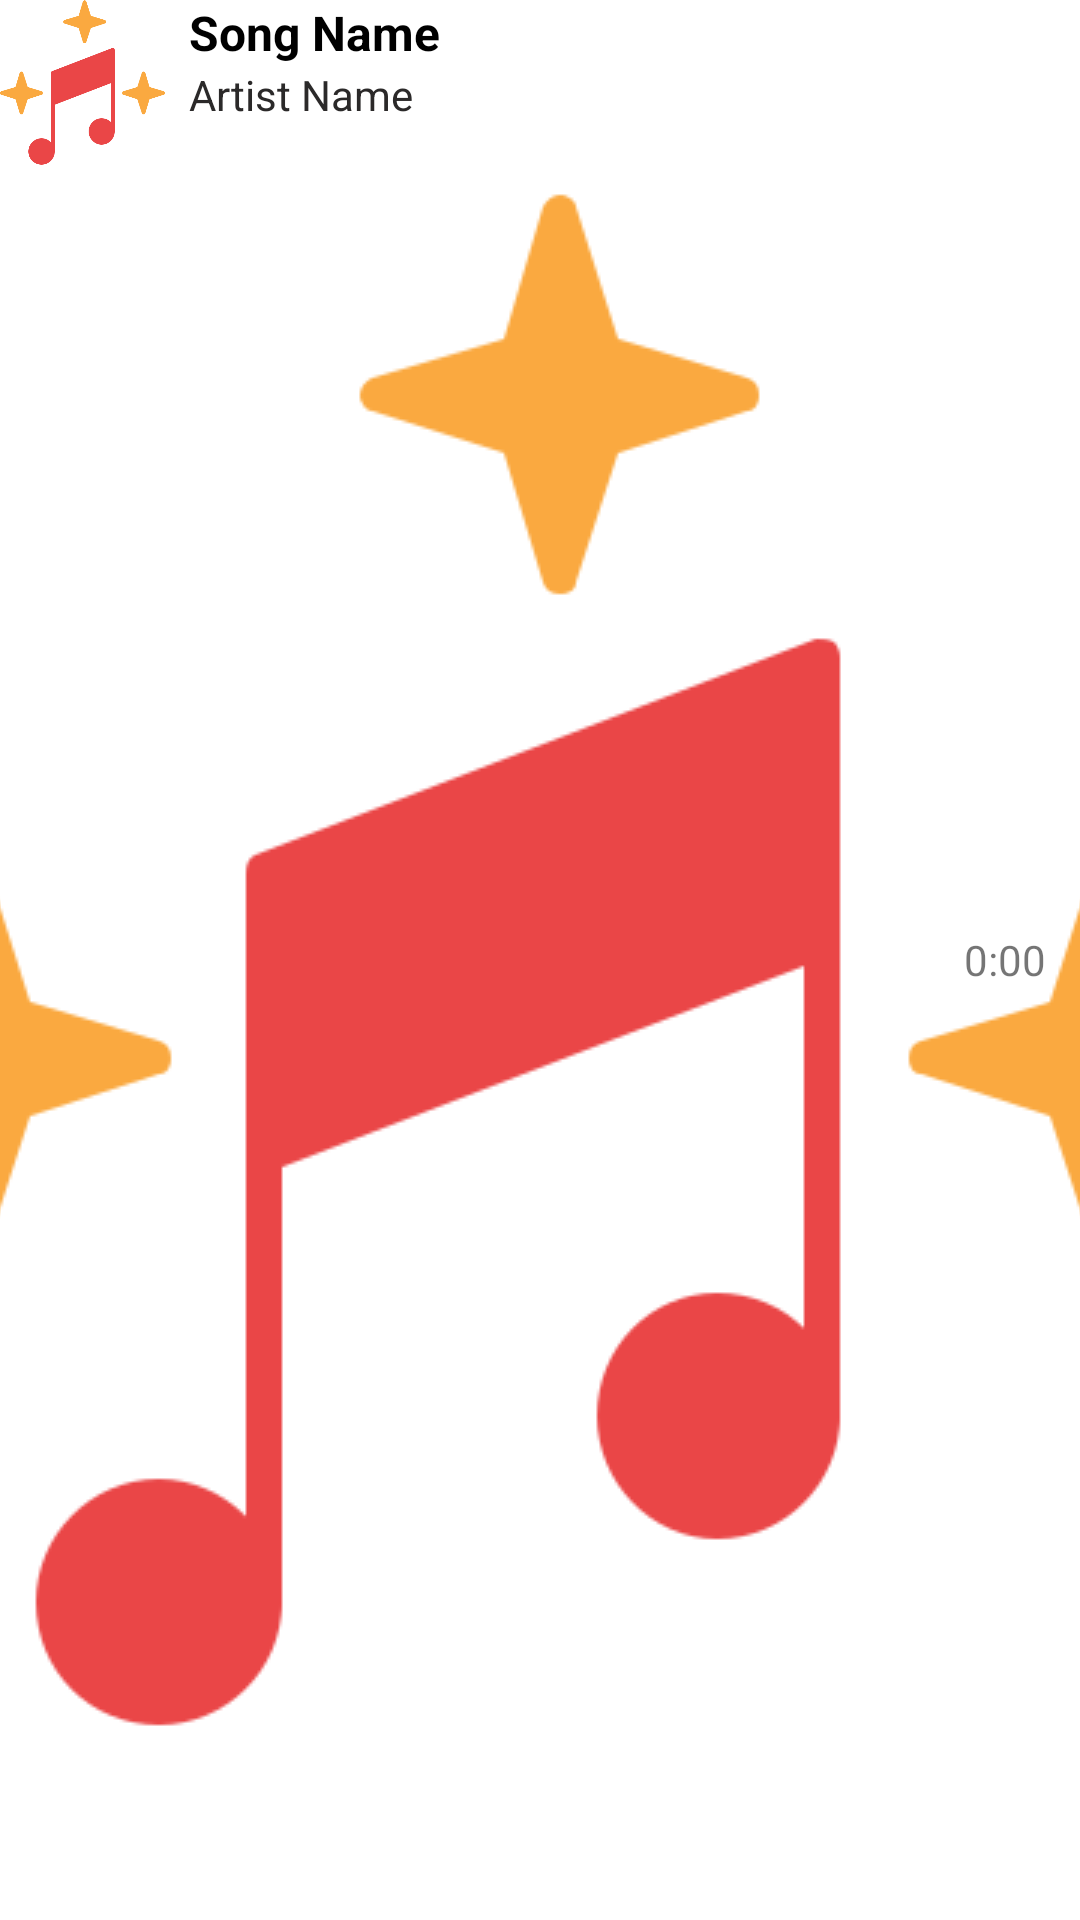

Locate icon controls on the screen. Image size 1080px x 1920px, boxes as (x1=x1, y1=y1, x2=x2, y2=y2).
music: (x1=0, y1=0, x2=165, y2=165)
